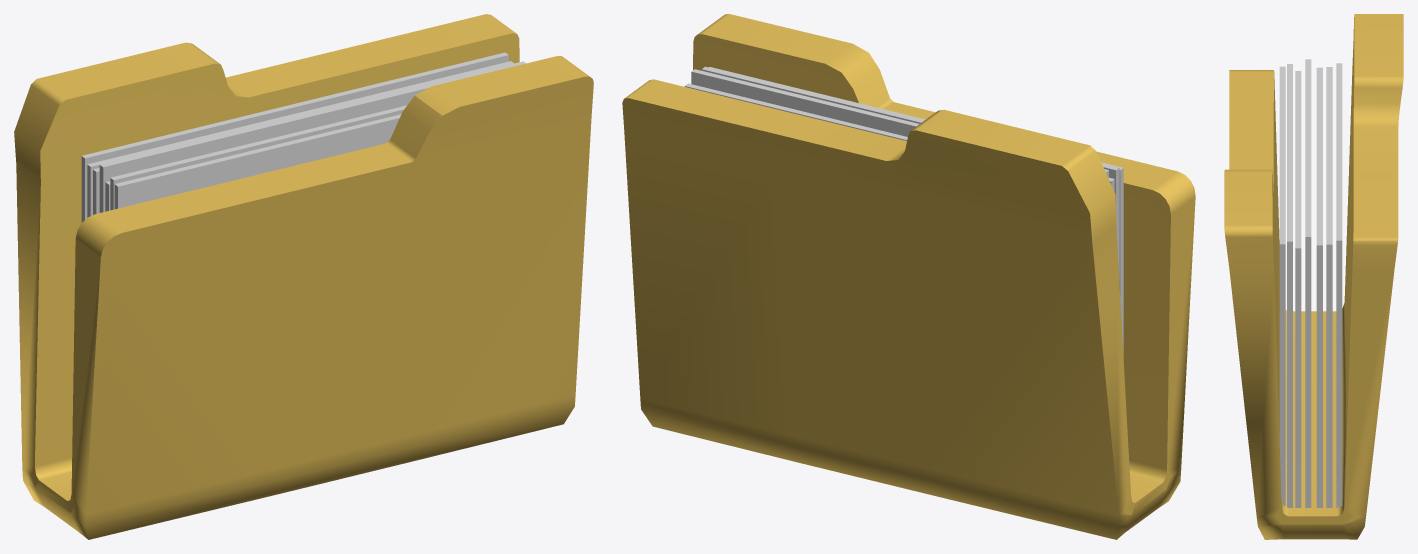
File: Pasta ITS.fbx
The picture shows the model from 3 angles, left to right: view 1: azimuth 30°, elevation 25°; view 2: azimuth 150°, elevation 25°; view 3: azimuth 270°, elevation 25°; orthographic projection. The views are drawn at different scales.
Visible parts, largest first — view 1: pCube13; view 2: pCube13; view 3: pCube13.
Part boxes in pixels (x1,y1,x2,y2): pCube13: (14,14,593,539); pCube13: (622,14,1195,539); pCube13: (1224,14,1403,539).
Bounding box in the file's own units: 6.3 × 4.95 × 2.33.
